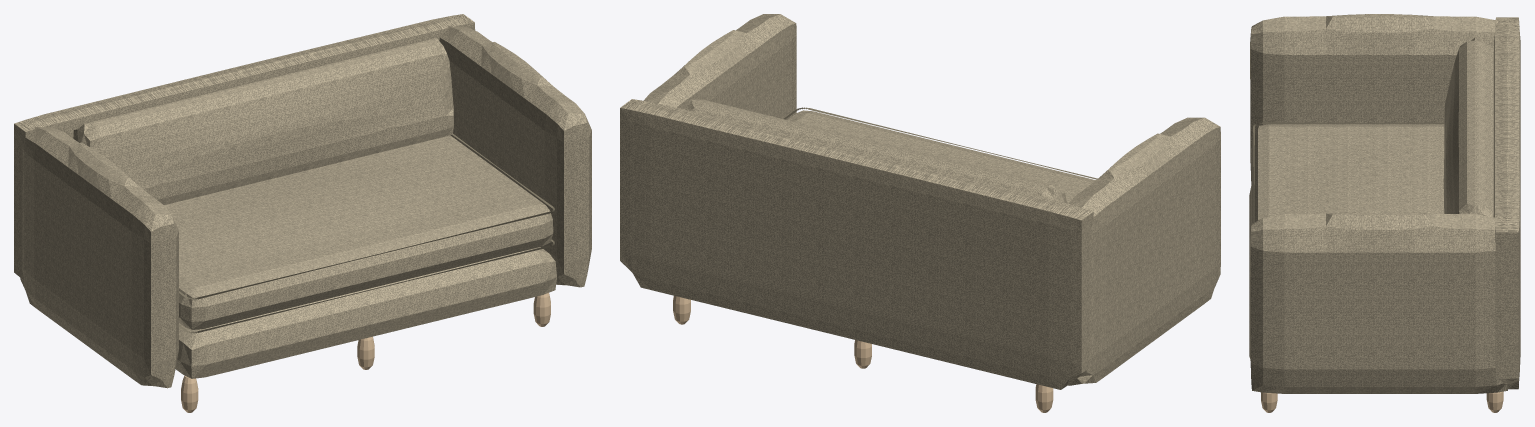
The model's file is CAL-SOF-2-seat.glb.
3 views of the same model, side by side, from view 1: azimuth 30°, elevation 25°; view 2: azimuth 150°, elevation 25°; view 3: azimuth 270°, elevation 25° (orthographic). The views are drawn at different scales.
Parts seen in each view (by area): view 1: seat:fabric:eyJwcmVzZXQiOiJib3VjbGUiLCJ3YXJwIjoib2F0Iiwid2Vm, inside-back:fabric:eyJwcmVzZXQiOiJib3VjbGUiLCJ3YXJwIjoib2F0I, arm-pad-l:fabric:eyJwcmVzZXQiOiJib3VjbGUiLCJ3YXJwIjoib2F0Iiw, arm-pad-r:fabric:eyJwcmVzZXQiOiJib3VjbGUiLCJ3YXJwIjoib2F0Iiw, deck:fabric:eyJwcmVzZXQiOiJib3VjbGUiLCJ3YXJwIjoib2F0Iiwid2Vm, back-pad:fabric:eyJwcmVzZXQiOiJib3VjbGUiLCJ3YXJwIjoib2F0Iiwi, seat:piping:pbr, leg-fl:pbr; view 2: back-pad:fabric:eyJwcmVzZXQiOiJib3VjbGUiLCJ3YXJwIjoib2F0Iiwi, arm-pad-l:fabric:eyJwcmVzZXQiOiJib3VjbGUiLCJ3YXJwIjoib2F0Iiw, arm-pad-r:fabric:eyJwcmVzZXQiOiJib3VjbGUiLCJ3YXJwIjoib2F0Iiw, inside-back:fabric:eyJwcmVzZXQiOiJib3VjbGUiLCJ3YXJwIjoib2F0I, seat:fabric:eyJwcmVzZXQiOiJib3VjbGUiLCJ3YXJwIjoib2F0Iiwid2Vm, seat:piping:pbr; view 3: arm-pad-r:fabric:eyJwcmVzZXQiOiJib3VjbGUiLCJ3YXJwIjoib2F0Iiw, arm-pad-l:fabric:eyJwcmVzZXQiOiJib3VjbGUiLCJ3YXJwIjoib2F0Iiw, seat:fabric:eyJwcmVzZXQiOiJib3VjbGUiLCJ3YXJwIjoib2F0Iiwid2Vm, back-pad:fabric:eyJwcmVzZXQiOiJib3VjbGUiLCJ3YXJwIjoib2F0Iiwi, inside-back:fabric:eyJwcmVzZXQiOiJib3VjbGUiLCJ3YXJwIjoib2F0I, seat:piping:pbr, deck:fabric:eyJwcmVzZXQiOiJib3VjbGUiLCJ3YXJwIjoib2F0Iiwid2Vm, leg-br:pbr, leg-fr:pbr.
Boxes of the visible parts, x1=… form: seat:fabric:eyJwcmVzZXQiOiJib3VjbGUiLCJ3YXJwIjoib2F0Iiwid2Vm: x1=164, y1=135, x2=553, y2=329; inside-back:fabric:eyJwcmVzZXQiOiJib3VjbGUiLCJ3YXJwIjoib2F0I: x1=73, y1=38, x2=453, y2=204; arm-pad-l:fabric:eyJwcmVzZXQiOiJib3VjbGUiLCJ3YXJwIjoib2F0Iiw: x1=20, y1=127, x2=178, y2=388; arm-pad-r:fabric:eyJwcmVzZXQiOiJib3VjbGUiLCJ3YXJwIjoib2F0Iiw: x1=439, y1=26, x2=591, y2=287; deck:fabric:eyJwcmVzZXQiOiJib3VjbGUiLCJ3YXJwIjoib2F0Iiwid2Vm: x1=175, y1=247, x2=556, y2=378; back-pad:fabric:eyJwcmVzZXQiOiJib3VjbGUiLCJ3YXJwIjoib2F0Iiwi: x1=14, y1=14, x2=475, y2=279; seat:piping:pbr: x1=179, y1=134, x2=554, y2=333; leg-fl:pbr: x1=181, y1=375, x2=198, y2=412; back-pad:fabric:eyJwcmVzZXQiOiJib3VjbGUiLCJ3YXJwIjoib2F0Iiwi: x1=620, y1=99, x2=1093, y2=389; arm-pad-l:fabric:eyJwcmVzZXQiOiJib3VjbGUiLCJ3YXJwIjoib2F0Iiw: x1=1068, y1=117, x2=1220, y2=385; arm-pad-r:fabric:eyJwcmVzZXQiOiJib3VjbGUiLCJ3YXJwIjoib2F0Iiw: x1=643, y1=14, x2=796, y2=119; inside-back:fabric:eyJwcmVzZXQiOiJib3VjbGUiLCJ3YXJwIjoib2F0I: x1=685, y1=99, x2=1067, y2=203; seat:fabric:eyJwcmVzZXQiOiJib3VjbGUiLCJ3YXJwIjoib2F0Iiwid2Vm: x1=787, y1=110, x2=1095, y2=203; seat:piping:pbr: x1=784, y1=107, x2=1097, y2=179; arm-pad-r:fabric:eyJwcmVzZXQiOiJib3VjbGUiLCJ3YXJwIjoib2F0Iiw: x1=1250, y1=211, x2=1508, y2=393; arm-pad-l:fabric:eyJwcmVzZXQiOiJib3VjbGUiLCJ3YXJwIjoib2F0Iiw: x1=1250, y1=14, x2=1498, y2=184; seat:fabric:eyJwcmVzZXQiOiJib3VjbGUiLCJ3YXJwIjoib2F0Iiwid2Vm: x1=1251, y1=124, x2=1444, y2=223; back-pad:fabric:eyJwcmVzZXQiOiJib3VjbGUiLCJ3YXJwIjoib2F0Iiwi: x1=1494, y1=17, x2=1520, y2=389; inside-back:fabric:eyJwcmVzZXQiOiJib3VjbGUiLCJ3YXJwIjoib2F0I: x1=1443, y1=37, x2=1493, y2=217; seat:piping:pbr: x1=1253, y1=122, x2=1444, y2=222; deck:fabric:eyJwcmVzZXQiOiJib3VjbGUiLCJ3YXJwIjoib2F0Iiwid2Vm: x1=1249, y1=185, x2=1251, y2=358; leg-br:pbr: x1=1486, y1=391, x2=1503, y2=412; leg-fr:pbr: x1=1261, y1=392, x2=1277, y2=412.
Size of the model in its own units: 1.7 by 0.78 by 0.9.
Materials: 13 (6 with a texture image).
